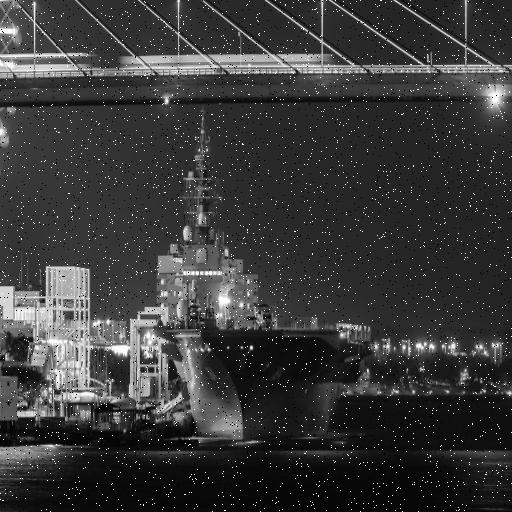Portanaves: (153, 110, 375, 452)
